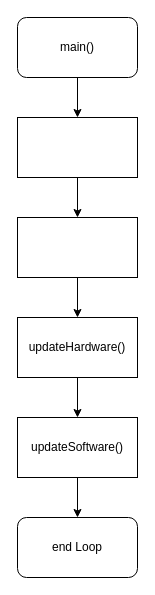
Image size: 155x595. Some labels were removed from this diagram. Each missing label, with the centre of its shape:
config: (x=77, y=147)
getObjectData(): (x=77, y=247)
